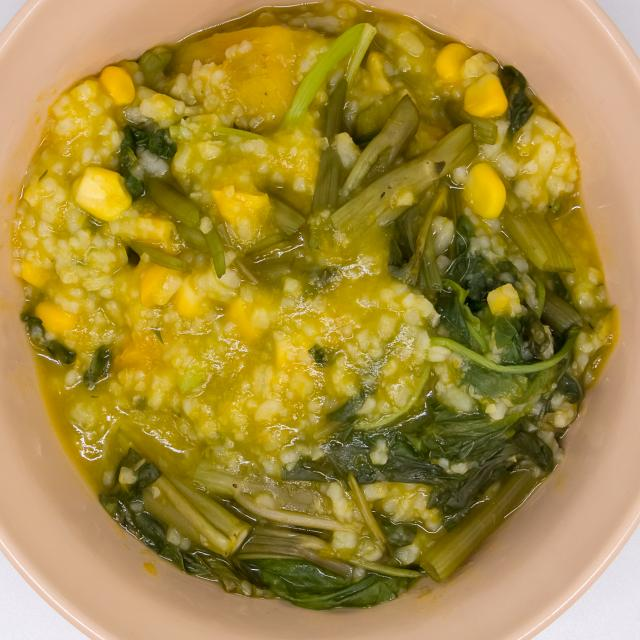Bubur-Manado: (9, 8, 619, 604)
